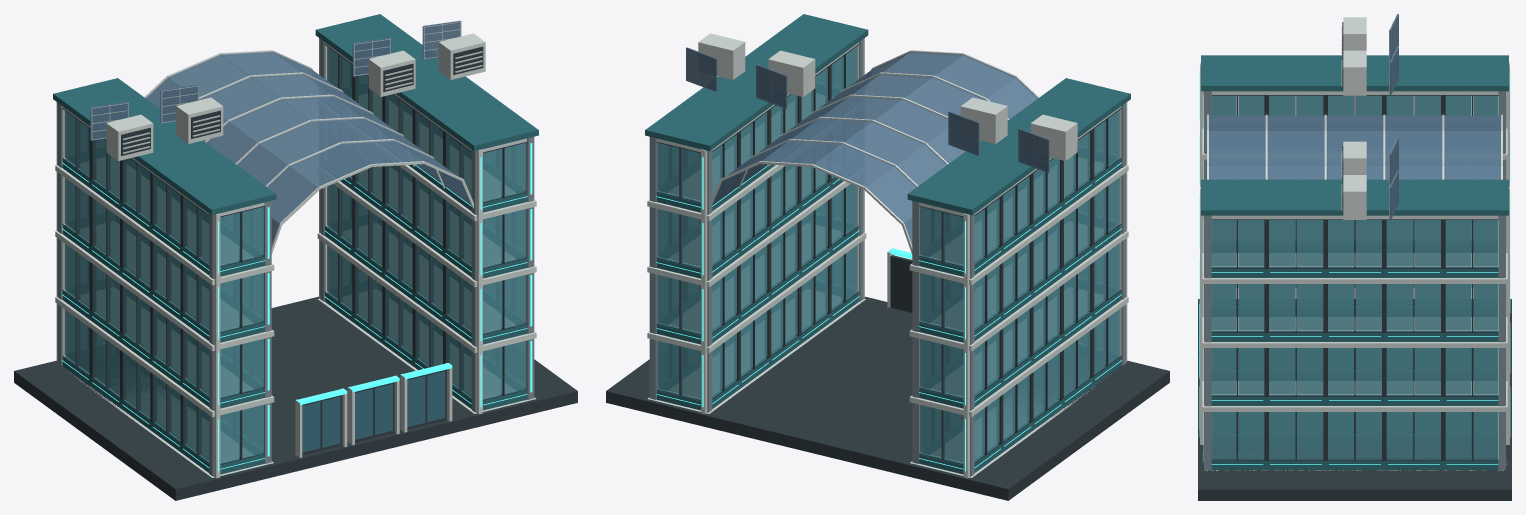
Rendered from Civic_TransitAtrium_4F.glb.
3 renders of one model, left to right at view 1: azimuth 30°, elevation 25°; view 2: azimuth 150°, elevation 25°; view 3: azimuth 270°, elevation 25°, orthographic. The views are drawn at different scales.
Visible parts, largest first — view 1: Civic_TransitAtrium_4F__Plinth_Unit, Civic_TransitAtrium_4F__Roof_Coping_Unit, Civic_TransitAtrium_4F__Roof_Coping_Unit.001, Civic_TransitAtrium_4F, Civic_TransitAtrium_4F__Entry_Airlock, Civic_TransitAtrium_4F__Entry_Airlock.001, Civic_TransitAtrium_4F__Entry_Airlock.002, Civic_TransitAtrium_4F__Facade_Glazing_3m.084, Civic_TransitAtrium_4F__Facade_Glazing_3m.036, Civic_TransitAtrium_4F__Facade_Glazing_3m, Civic_TransitAtrium_4F__Facade_Glazing_3m.048, Civic_TransitAtrium_4F__Facade_Glazing_3m.060 (+99 smaller); view 2: Civic_TransitAtrium_4F__Plinth_Unit, Civic_TransitAtrium_4F__Roof_Coping_Unit, Civic_TransitAtrium_4F__Roof_Coping_Unit.001, Civic_TransitAtrium_4F, Civic_TransitAtrium_4F__Facade_Glazing_3m.090, Civic_TransitAtrium_4F__Facade_Glazing_3m.042, Civic_TransitAtrium_4F__Facade_Glazing_3m.006, Civic_TransitAtrium_4F__Facade_Glazing_3m.054, Civic_TransitAtrium_4F__Facade_Glazing_3m.066, Civic_TransitAtrium_4F__Facade_Glazing_3m.078, Civic_TransitAtrium_4F__Facade_Glazing_3m.018, Civic_TransitAtrium_4F__Facade_Glazing_3m.030 (+100 smaller); view 3: Civic_TransitAtrium_4F__Plinth_Unit, Civic_TransitAtrium_4F__Roof_Coping_Unit.001, Civic_TransitAtrium_4F__Roof_Coping_Unit, Civic_TransitAtrium_4F, Civic_TransitAtrium_4F__Facade_Glazing_3m.056, Civic_TransitAtrium_4F__Facade_Glazing_3m.058, Civic_TransitAtrium_4F__Facade_Glazing_3m.068, Civic_TransitAtrium_4F__Facade_Glazing_3m.070, Civic_TransitAtrium_4F__Facade_Glazing_3m.080, Civic_TransitAtrium_4F__Facade_Glazing_3m.082, Civic_TransitAtrium_4F__Facade_Glazing_3m.092, Civic_TransitAtrium_4F__Facade_Glazing_3m.094 (+71 smaller).
Boxes of the visible parts, x1,y1,x2,y2 form: Civic_TransitAtrium_4F__Plinth_Unit: (14,296,577,500); Civic_TransitAtrium_4F__Roof_Coping_Unit: (53,78,276,215); Civic_TransitAtrium_4F__Roof_Coping_Unit.001: (315,14,538,151); Civic_TransitAtrium_4F: (266,139,473,254); Civic_TransitAtrium_4F__Entry_Airlock: (295,388,347,457); Civic_TransitAtrium_4F__Entry_Airlock.001: (347,375,399,445); Civic_TransitAtrium_4F__Entry_Airlock.002: (400,363,452,432); Civic_TransitAtrium_4F__Facade_Glazing_3m.084: (483,143,526,200); Civic_TransitAtrium_4F__Facade_Glazing_3m.036: (220,207,263,264); Civic_TransitAtrium_4F__Facade_Glazing_3m: (220,405,263,462); Civic_TransitAtrium_4F__Facade_Glazing_3m.048: (483,341,526,398); Civic_TransitAtrium_4F__Facade_Glazing_3m.060: (483,275,526,332); Civic_TransitAtrium_4F__Plinth_Unit: (606,296,1169,500); Civic_TransitAtrium_4F__Roof_Coping_Unit: (907,78,1130,215); Civic_TransitAtrium_4F__Roof_Coping_Unit.001: (645,14,868,151); Civic_TransitAtrium_4F: (841,50,1039,120); Civic_TransitAtrium_4F__Facade_Glazing_3m.090: (657,143,700,200); Civic_TransitAtrium_4F__Facade_Glazing_3m.042: (920,207,963,264); Civic_TransitAtrium_4F__Facade_Glazing_3m.006: (920,405,963,462); Civic_TransitAtrium_4F__Facade_Glazing_3m.054: (657,341,700,398); Civic_TransitAtrium_4F__Facade_Glazing_3m.066: (657,275,700,332); Civic_TransitAtrium_4F__Facade_Glazing_3m.078: (657,209,700,266); Civic_TransitAtrium_4F__Facade_Glazing_3m.018: (920,339,963,396); Civic_TransitAtrium_4F__Facade_Glazing_3m.030: (920,273,963,330); Civic_TransitAtrium_4F__Plinth_Unit: (1198,299,1511,500); Civic_TransitAtrium_4F__Roof_Coping_Unit.001: (1201,179,1508,215); Civic_TransitAtrium_4F__Roof_Coping_Unit: (1201,55,1508,91); Civic_TransitAtrium_4F: (1207,114,1267,240); Civic_TransitAtrium_4F__Facade_Glazing_3m.056: (1269,412,1323,458); Civic_TransitAtrium_4F__Facade_Glazing_3m.058: (1386,412,1440,458); Civic_TransitAtrium_4F__Facade_Glazing_3m.068: (1269,348,1323,394); Civic_TransitAtrium_4F__Facade_Glazing_3m.070: (1386,348,1440,394); Civic_TransitAtrium_4F__Facade_Glazing_3m.080: (1269,284,1323,330); Civic_TransitAtrium_4F__Facade_Glazing_3m.082: (1386,284,1440,330); Civic_TransitAtrium_4F__Facade_Glazing_3m.092: (1269,220,1323,266); Civic_TransitAtrium_4F__Facade_Glazing_3m.094: (1386,220,1440,266).
Size of the model in its own units: 23 by 17.14 by 16.
